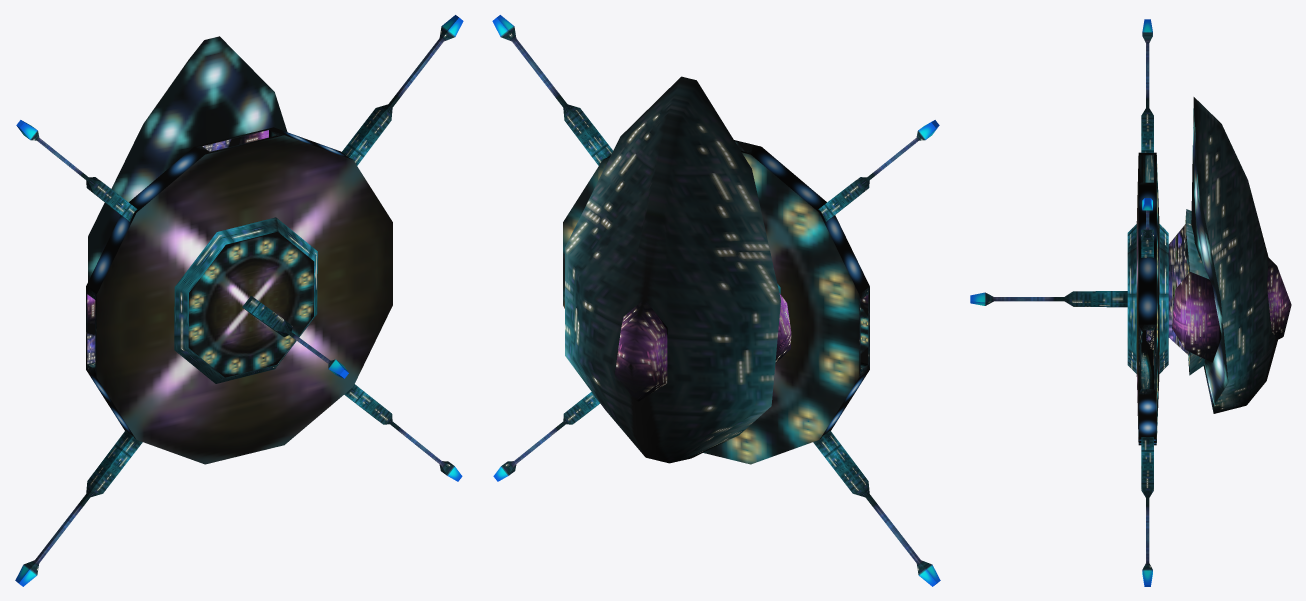
The picture shows the model from 3 angles, left to right: view 1: azimuth 30°, elevation 25°; view 2: azimuth 150°, elevation 25°; view 3: azimuth 270°, elevation 25°; orthographic projection. The views are drawn at different scales.
Parts seen in each view (by area): view 1: frm-platfrm1, frm-platfrm2, frm-fuselg1, frm-corrdr2_14, frm-corrdr2_12, frm-corrdr2_10, frm-corrdr2_1, frm-corrdr2_16; view 2: frm-fuselg1, frm-platfrm1, frm-contwr1, frm-corrdr2_14, frm-corrdr2_12, frm-corrdr2_10, frm-corrdr2_1, frm-bmerge3; view 3: frm-fuselg1, frm-platfrm1, frm-bmerge3, frm-corrdr2_16, frm-fuselg4, frm-platfrm2, frm-fuselg3, frm-contwr1, frm-corrdr2_1, frm-corrdr2_10, frm-corrdr2_12.
Part boxes in pixels (x1,y1,x2,y2): frm-platfrm1: [86, 127, 392, 464]; frm-platfrm2: [174, 217, 317, 383]; frm-fuselg1: [88, 36, 287, 281]; frm-corrdr2_14: [15, 430, 142, 586]; frm-corrdr2_12: [341, 15, 463, 165]; frm-corrdr2_10: [16, 120, 137, 221]; frm-corrdr2_1: [344, 384, 462, 481]; frm-corrdr2_16: [242, 296, 348, 378]; frm-fuselg1: [565, 76, 780, 463]; frm-platfrm1: [563, 140, 869, 464]; frm-contwr1: [615, 299, 667, 401]; frm-corrdr2_14: [813, 430, 940, 586]; frm-corrdr2_12: [492, 15, 612, 165]; frm-corrdr2_10: [818, 120, 939, 221]; frm-corrdr2_1: [493, 392, 599, 481]; frm-bmerge3: [775, 293, 791, 362]; frm-fuselg1: [1191, 97, 1277, 413]; frm-platfrm1: [1136, 152, 1159, 445]; frm-bmerge3: [1172, 209, 1221, 375]; frm-corrdr2_16: [970, 291, 1127, 307]; frm-fuselg4: [1159, 224, 1168, 373]; frm-platfrm2: [1127, 224, 1136, 373]; frm-fuselg3: [1168, 224, 1188, 355]; frm-contwr1: [1267, 258, 1291, 339]; frm-corrdr2_1: [1141, 437, 1153, 586]; frm-corrdr2_10: [1141, 19, 1153, 152]; frm-corrdr2_12: [1141, 198, 1153, 257].
Size of what is drawn, in the model's own units: 131 by 133 by 97.09.
